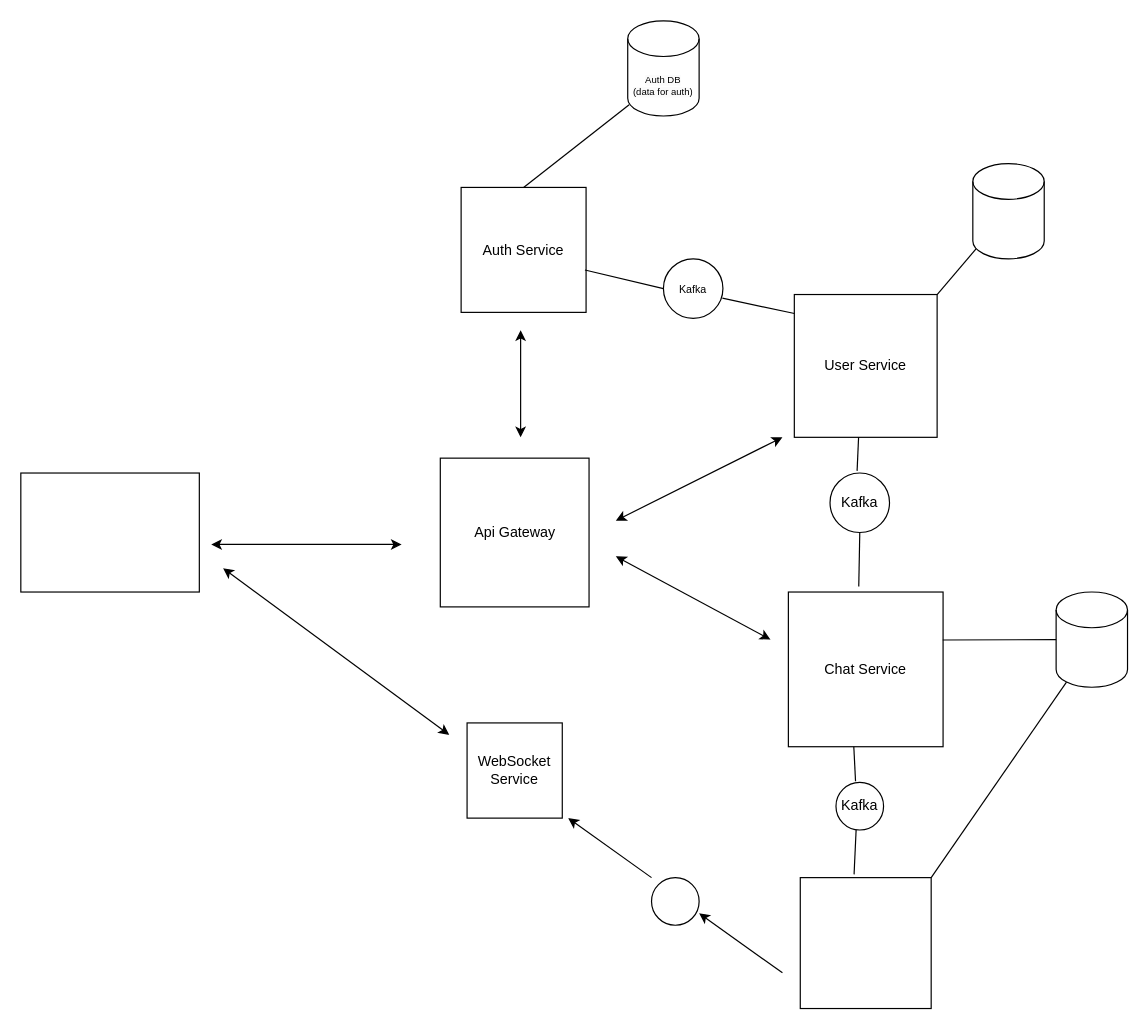
Some shapes in this 1148 by 1029 pixel diagram are drawn without their labels. The centre of each missing label's shape, as x and y in pixels:
"chats DB (chats data, messages data)" belongs at point 1091,639.
"Frontend" belongs at point 109,532.
"Notification Service" belongs at point 865,942.
"Rabbit Mq" belongs at point 674,900.
"User DB (user data)" belongs at point 1008,210.
